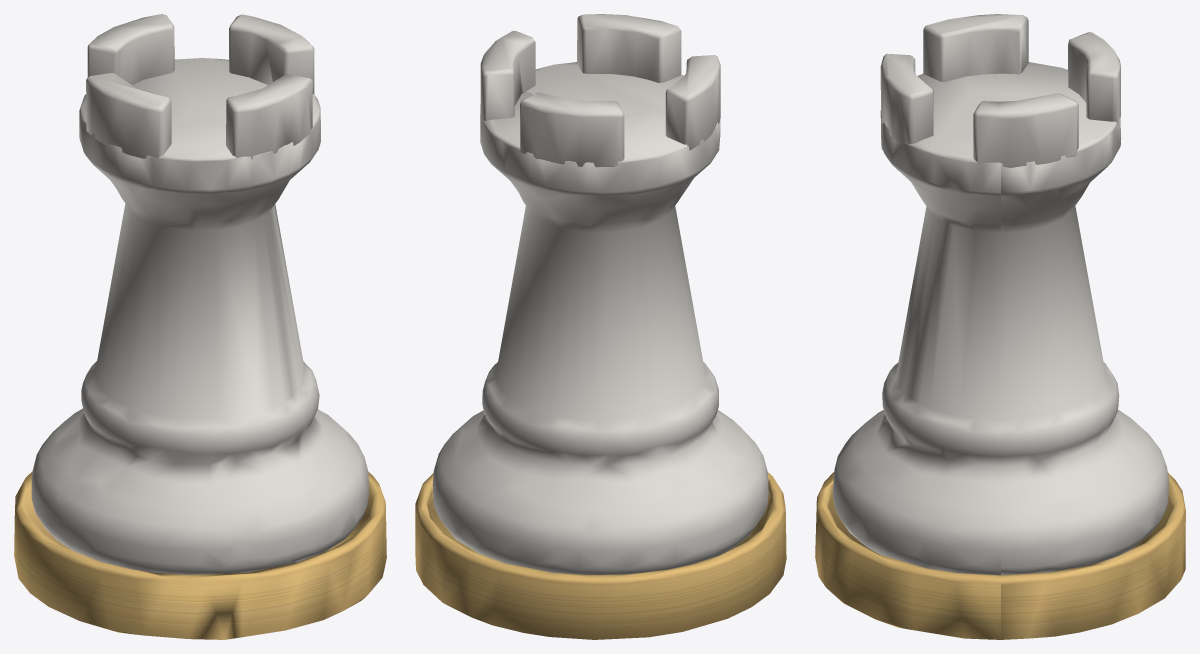
The model's file is aurum_rook_white.glb.
The picture shows the model from 3 angles, left to right: view 1: azimuth 30°, elevation 25°; view 2: azimuth 150°, elevation 25°; view 3: azimuth 270°, elevation 25°; orthographic projection.
Visible parts, largest first — view 1: Aurum Ivoire – Rook; view 2: Aurum Ivoire – Rook; view 3: Aurum Ivoire – Rook.
Part boxes in pixels (x1=…): Aurum Ivoire – Rook: x1=14, y1=14, x2=386, y2=639; Aurum Ivoire – Rook: x1=415, y1=14, x2=786, y2=639; Aurum Ivoire – Rook: x1=815, y1=14, x2=1185, y2=639.
Bounding box in the file's own units: 0.043 × 0.064 × 0.043.
Materials: 2 (1 with a texture image).
